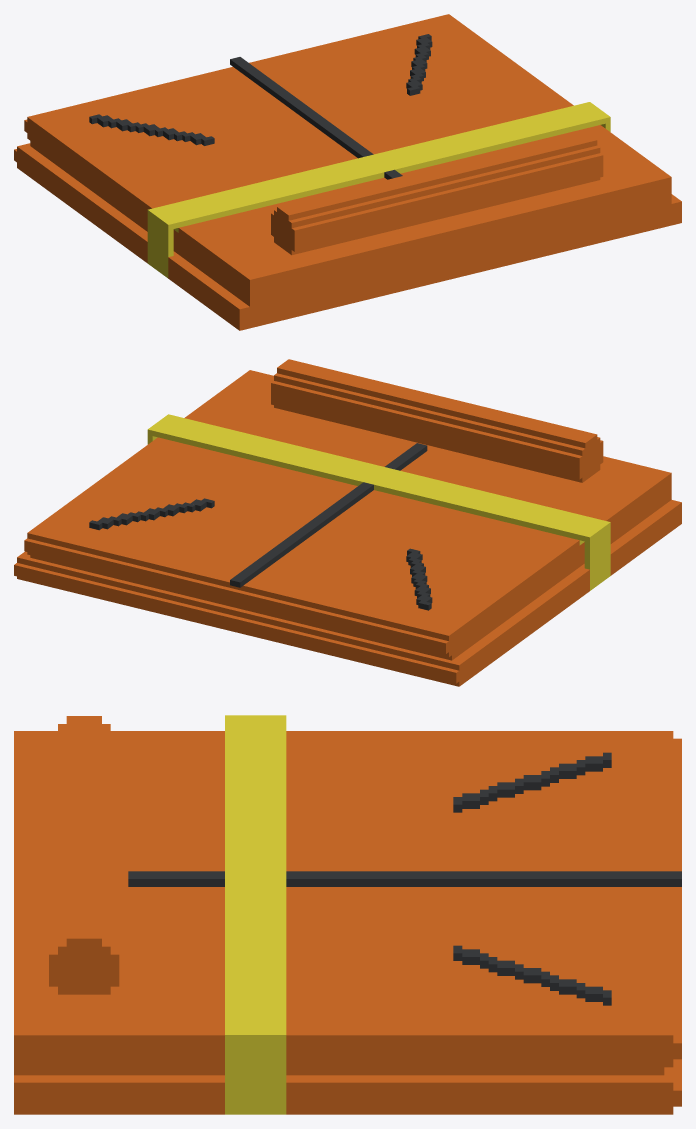
File: jacket_evac.glb
The picture shows the model from 3 angles, top to bottom: view 1: azimuth 30°, elevation 25°; view 2: azimuth 150°, elevation 25°; view 3: azimuth 270°, elevation 25°; orthographic projection. The views are drawn at different scales.
Visible parts, largest first — view 1: jacket_evac:compound; view 2: jacket_evac:compound; view 3: jacket_evac:compound.
Boxes of the visible parts, x1,y1,x2,y2 form: jacket_evac:compound: (14,14,681,330); jacket_evac:compound: (14,359,681,686); jacket_evac:compound: (14,715,681,1114).
Bounding box in the file's own units: 0.344 × 0.064 × 0.304.
